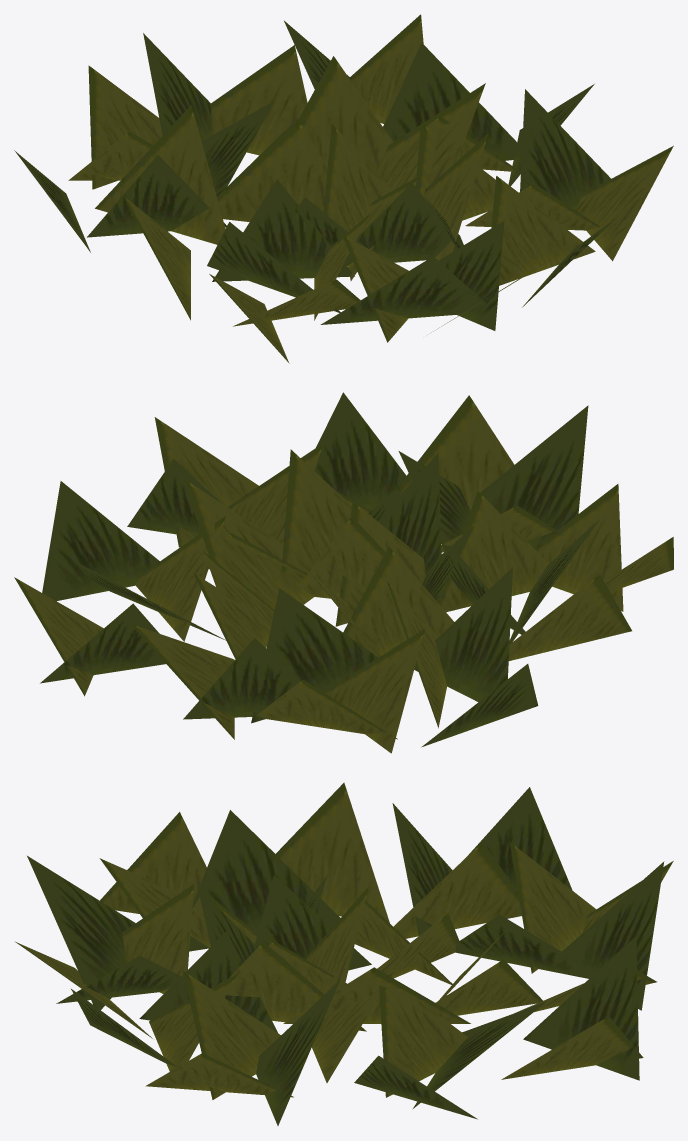
File: dec_Ground_Grass_06_55281.glb
The picture shows the model from 3 angles, top to bottom: view 1: azimuth 30°, elevation 25°; view 2: azimuth 150°, elevation 25°; view 3: azimuth 270°, elevation 25°; orthographic projection. The views are drawn at different scales.
Visible parts, largest first — view 1: Ground_Grass_06_mesh; view 2: Ground_Grass_06_mesh; view 3: Ground_Grass_06_mesh.
Boxes of the visible parts, <box> form: Ground_Grass_06_mesh: <box>14,14,673,363</box>; Ground_Grass_06_mesh: <box>14,392,673,753</box>; Ground_Grass_06_mesh: <box>15,782,673,1125</box>.
Size of the model in its own units: 1.46 by 0.284 by 1.55.
1 material, 1 textured.
